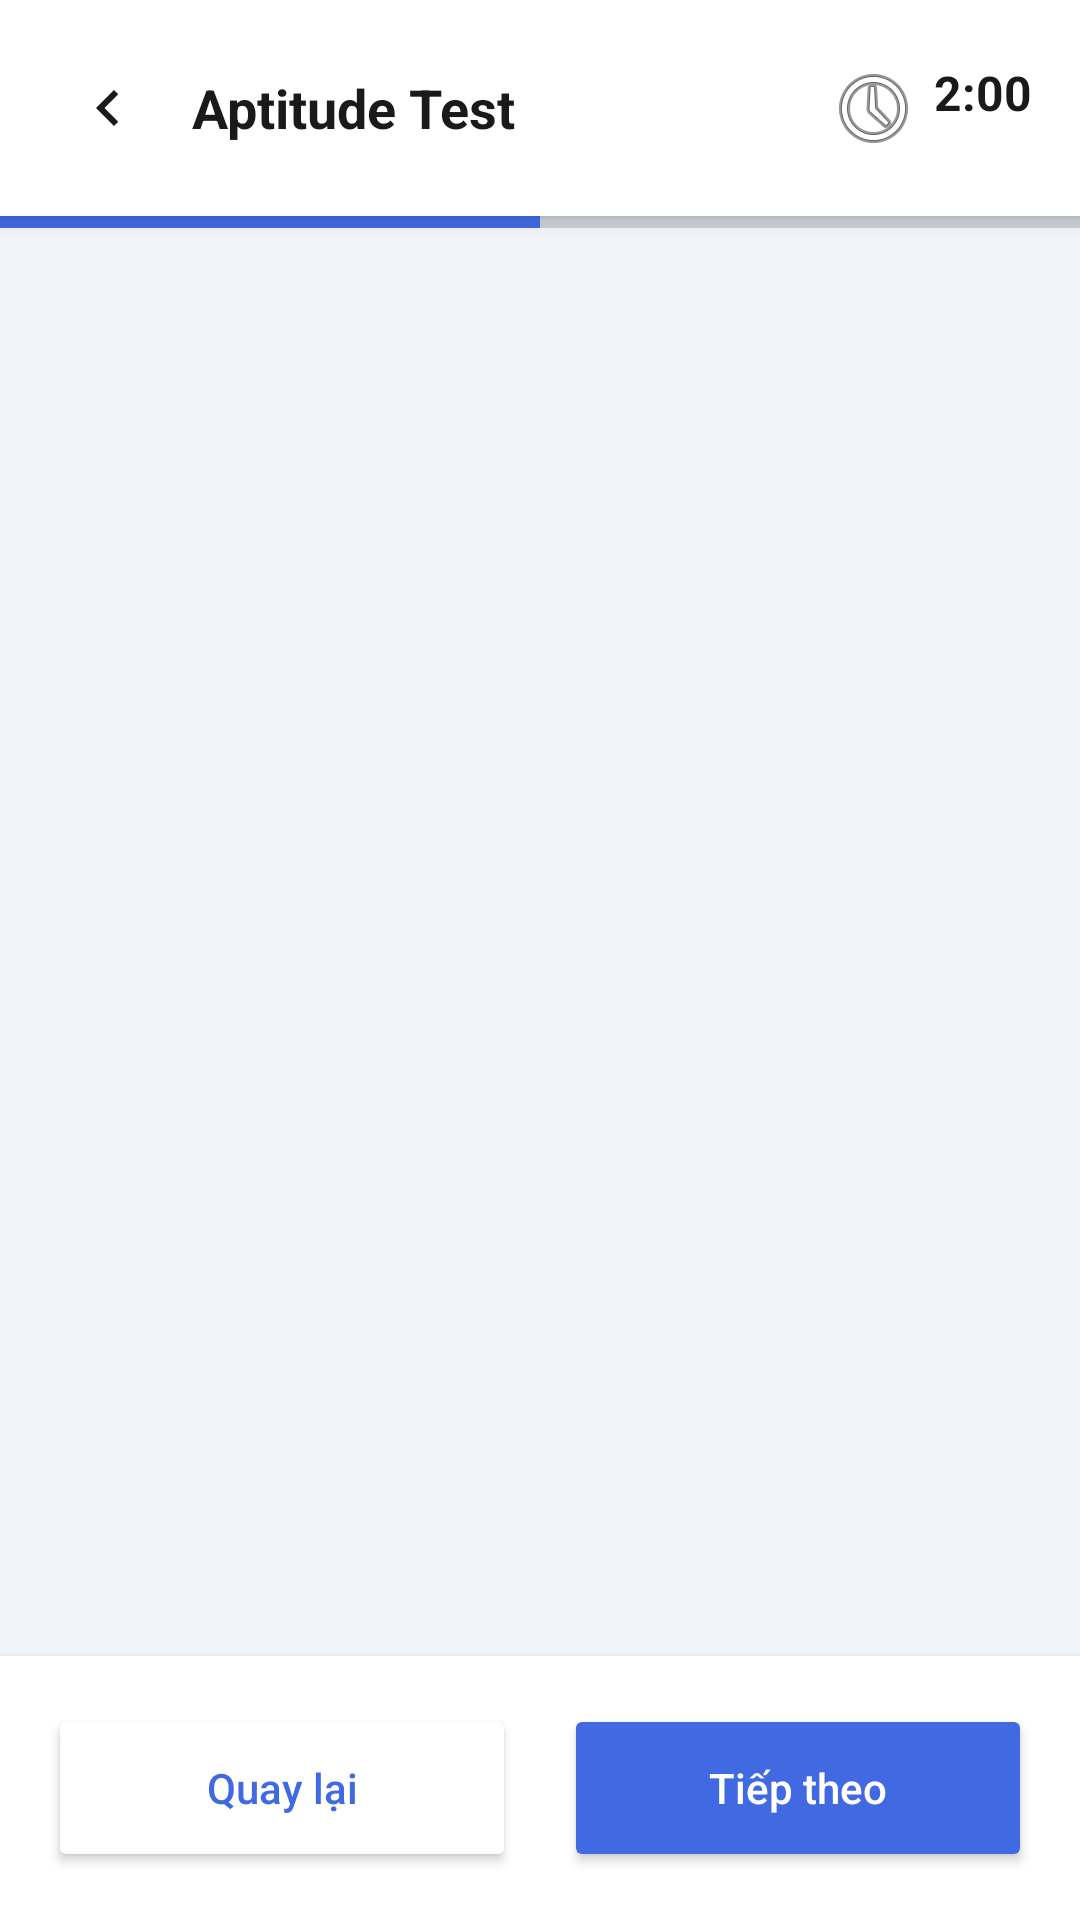

Where to tap for icons on this 1080*1920 app screen, as (x=x, y=y):
Quay lại: (x=107, y=108)
